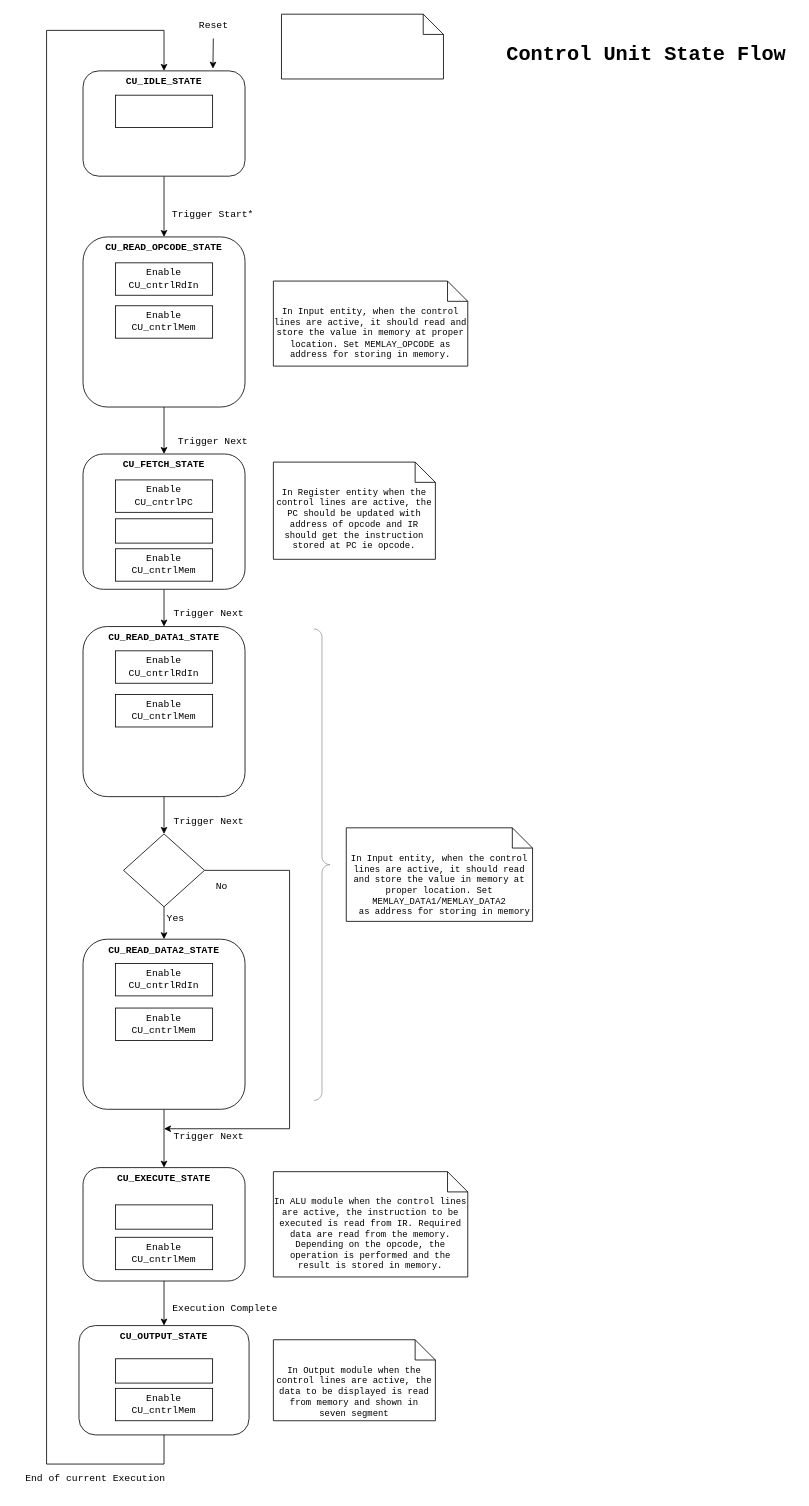
This 809x1506 diagram has some shape labels left out. The centre of each missing label's shape, as x and y in pixels:
"Enable CU_cntrlALU" goes at point (164, 1216).
"Enable CU_cntrlIR" goes at point (164, 530).
"Enable CU_cntrlOut" goes at point (164, 1370).
"Is Two Operands Required" goes at point (164, 870).
"Reset all control lines" goes at point (164, 111).
"This process should run whenever there is a change in current state or trigger." goes at point (362, 46).
